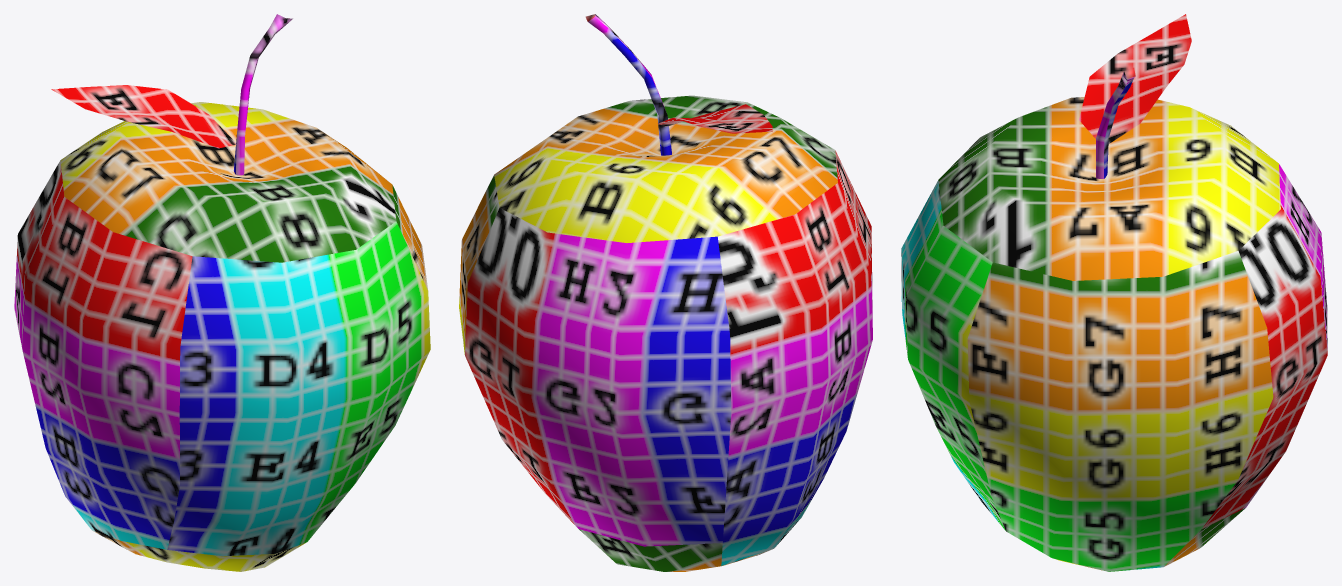
Rendered from Apple1.FBX.
3 views of the same model, side by side, from view 1: azimuth 30°, elevation 25°; view 2: azimuth 150°, elevation 25°; view 3: azimuth 270°, elevation 25° (orthographic).
Visible parts, largest first — view 1: apple1; view 2: apple1; view 3: apple1.
Boxes of the visible parts, x1=… form: apple1: x1=14, y1=14, x2=430, y2=571; apple1: x1=459, y1=14, x2=872, y2=571; apple1: x1=901, y1=14, x2=1327, y2=571.
Bounding box in the file's own units: 11.19 × 15.46 × 11.46.
1 material, 1 textured.
